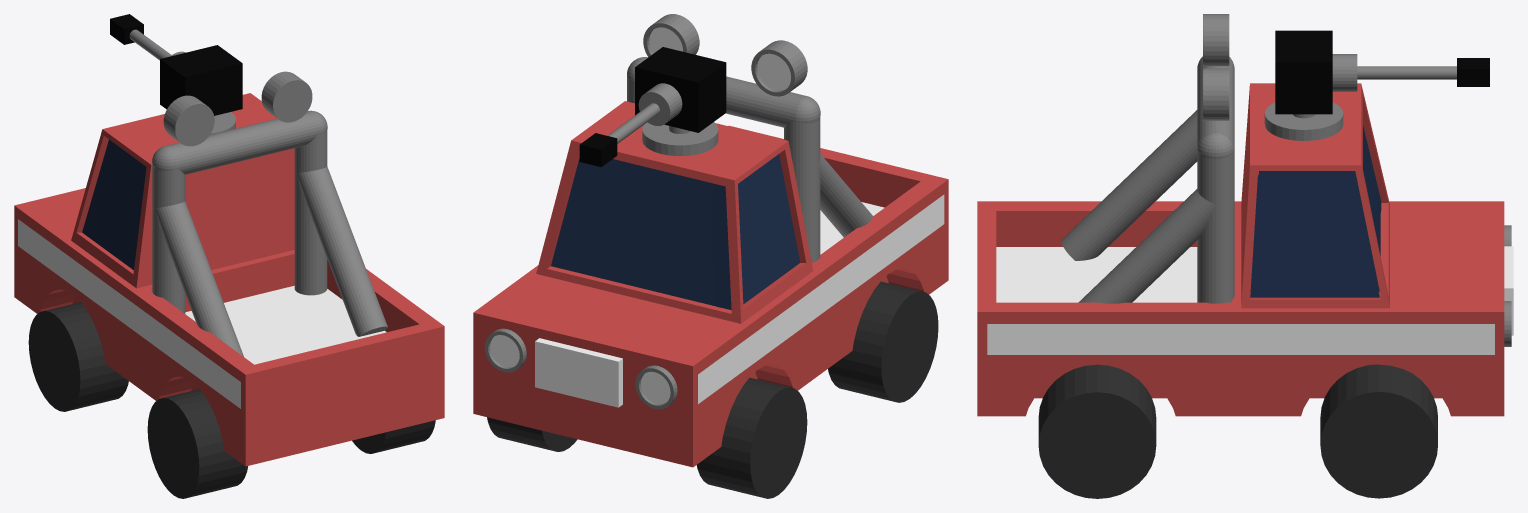
File: snipee.fbx
The picture shows the model from 3 angles, left to right: view 1: azimuth 30°, elevation 25°; view 2: azimuth 150°, elevation 25°; view 3: azimuth 270°, elevation 25°; orthographic projection. The views are drawn at different scales.
Visible parts, largest first — view 1: Cube.006; view 2: Cube.006; view 3: Cube.006.
Boxes of the visible parts, x1,y1,x2,y2 form: Cube.006: (14, 14, 444, 498); Cube.006: (473, 14, 948, 498); Cube.006: (977, 14, 1513, 498).
Bounding box in the file's own units: 2.37 × 3.28 × 4.1.
